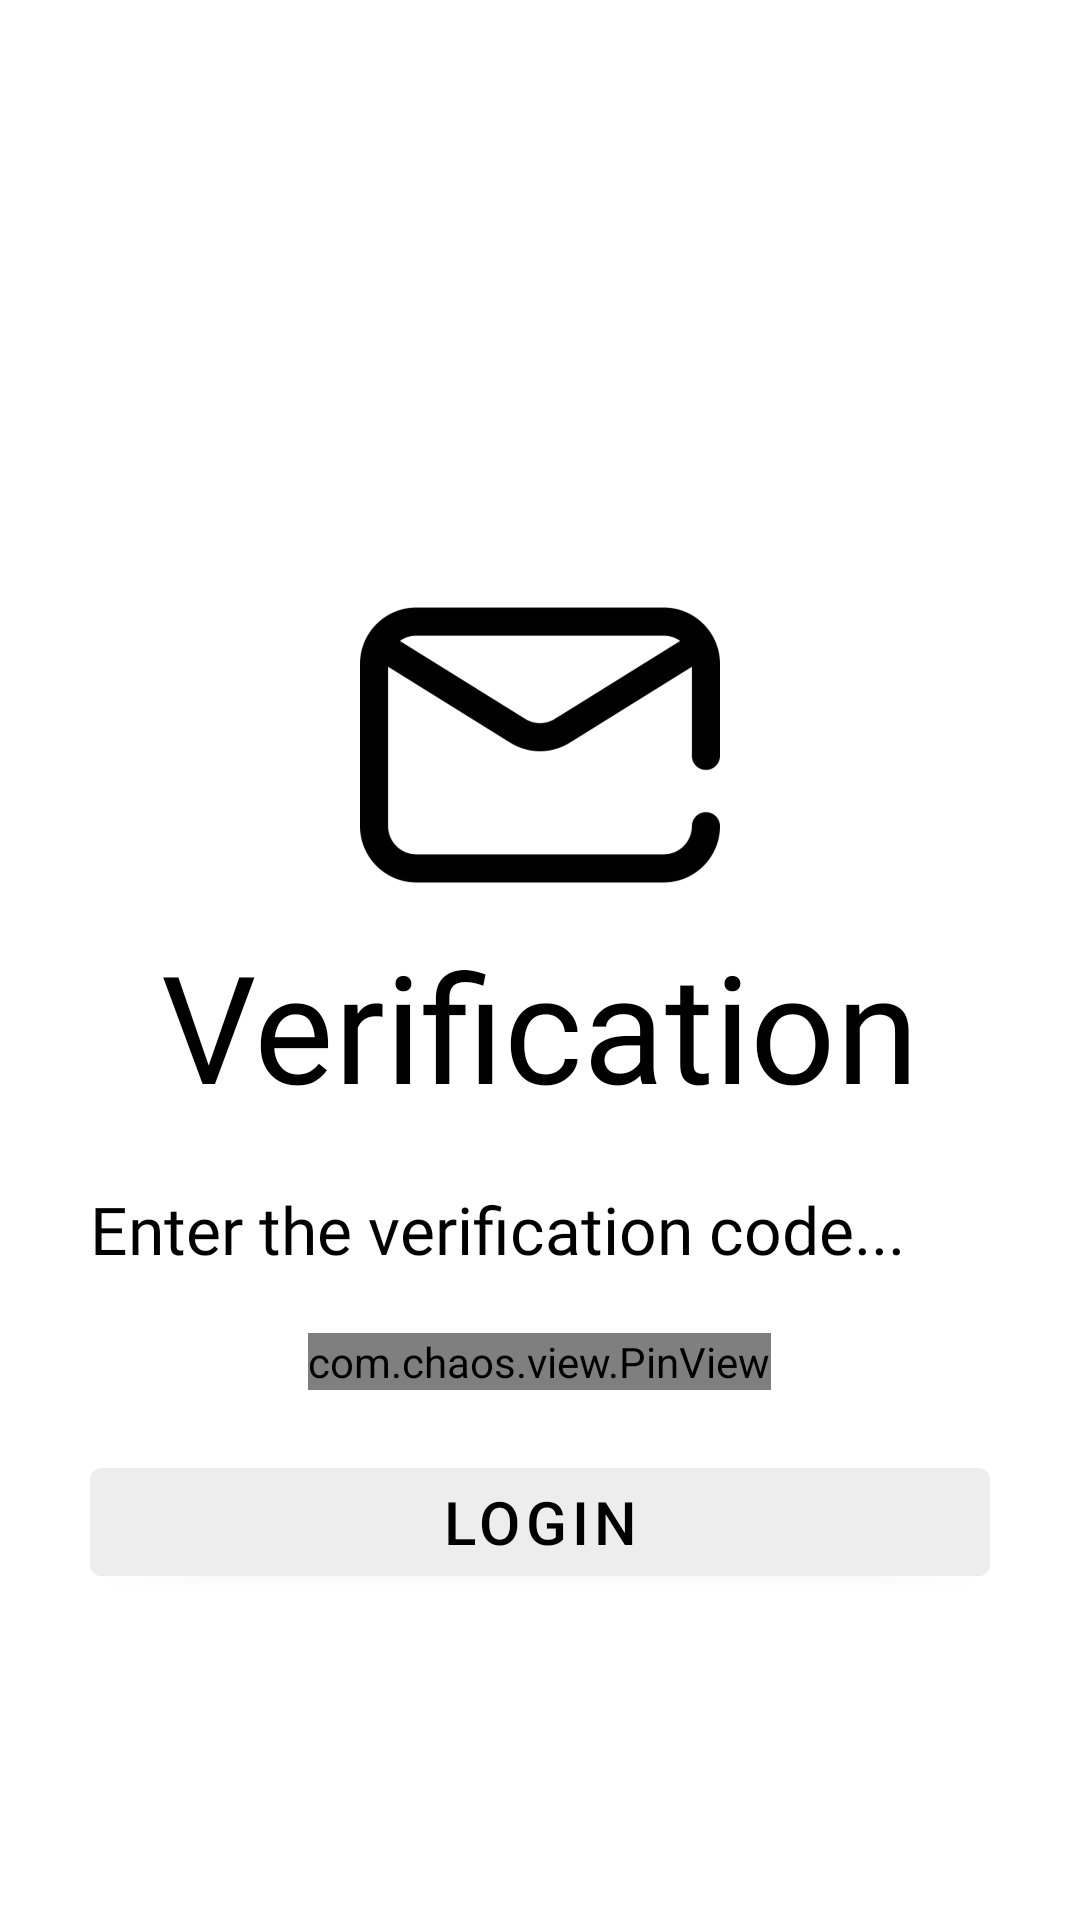

Named icons in this screenshot (1080px x 1920px) and their bounding boxes, (x1, y1, x2, y2):
email: (360, 607, 720, 883)
